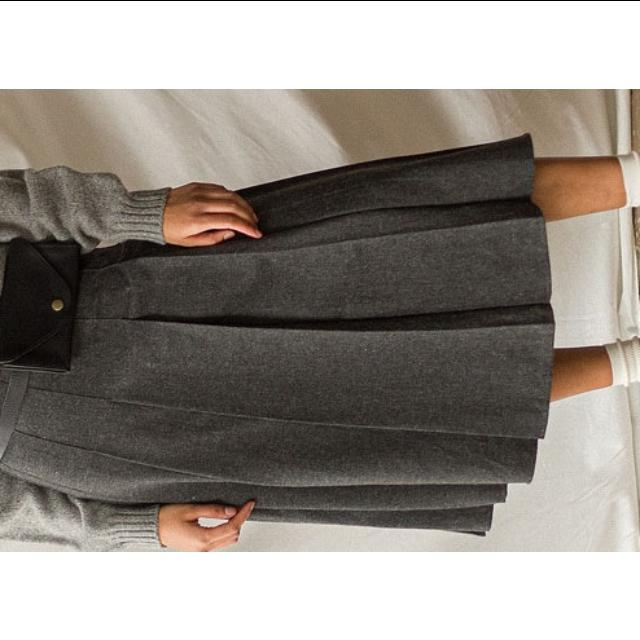wool: (1, 110, 552, 544)
